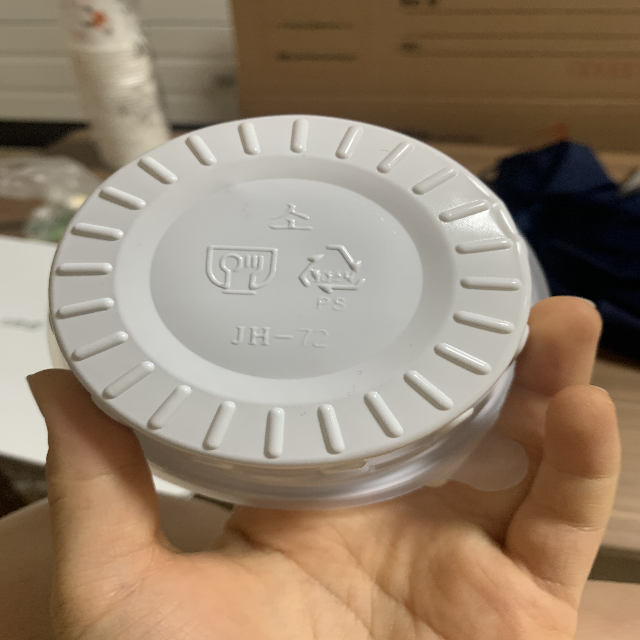ps: (298, 240, 368, 316)
